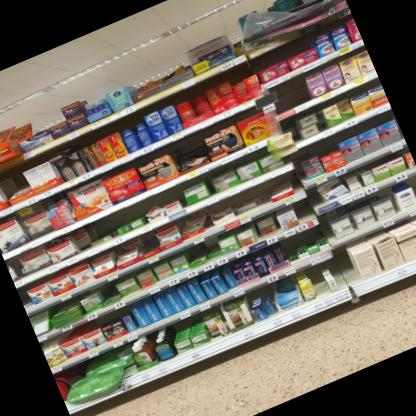empty_space: (269, 77, 310, 115), (329, 250, 359, 291), (412, 176, 416, 205)
